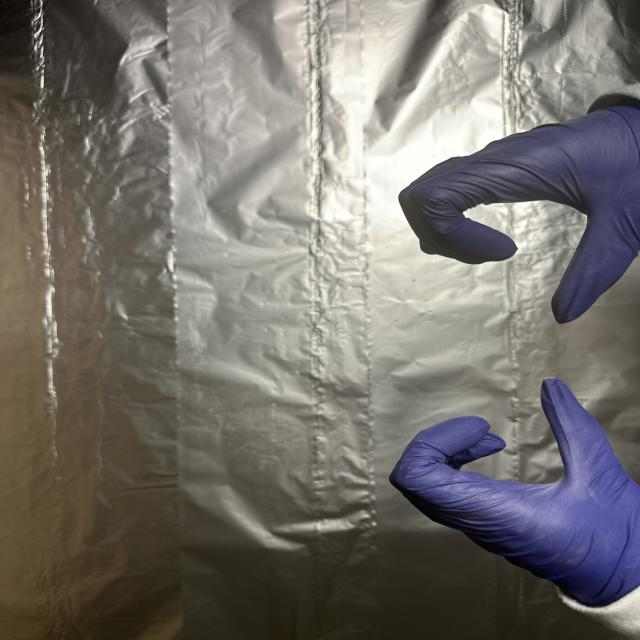gloves_contaminated: (390, 378, 640, 612), (399, 103, 640, 323)
